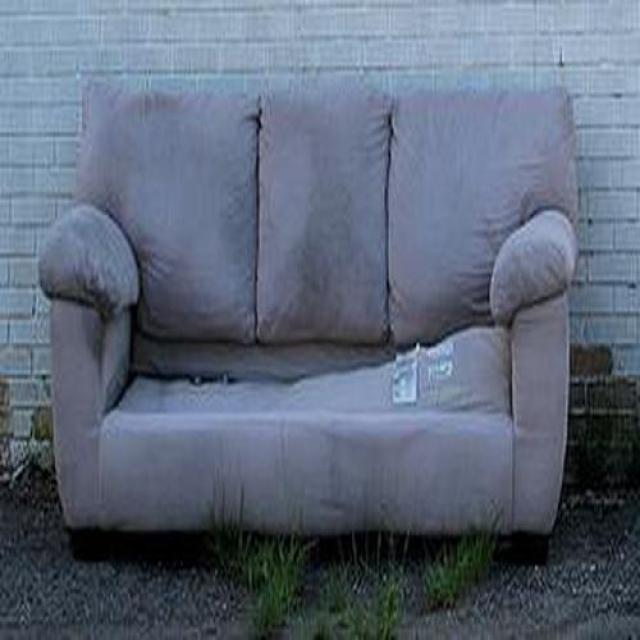sofa: (37, 76, 580, 558)
